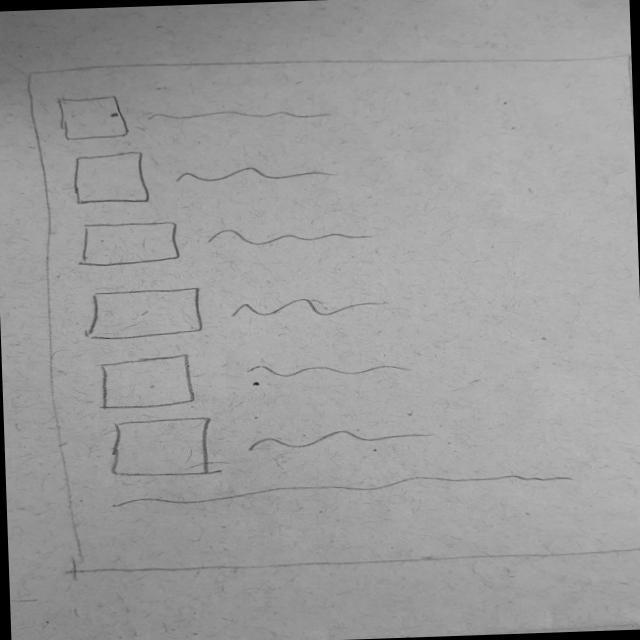checkbox: (88, 343, 422, 414), (104, 409, 427, 480), (84, 274, 392, 343), (77, 208, 375, 276), (64, 144, 345, 213), (55, 83, 336, 148)
container: (18, 45, 640, 579)
text: (102, 471, 584, 511)
